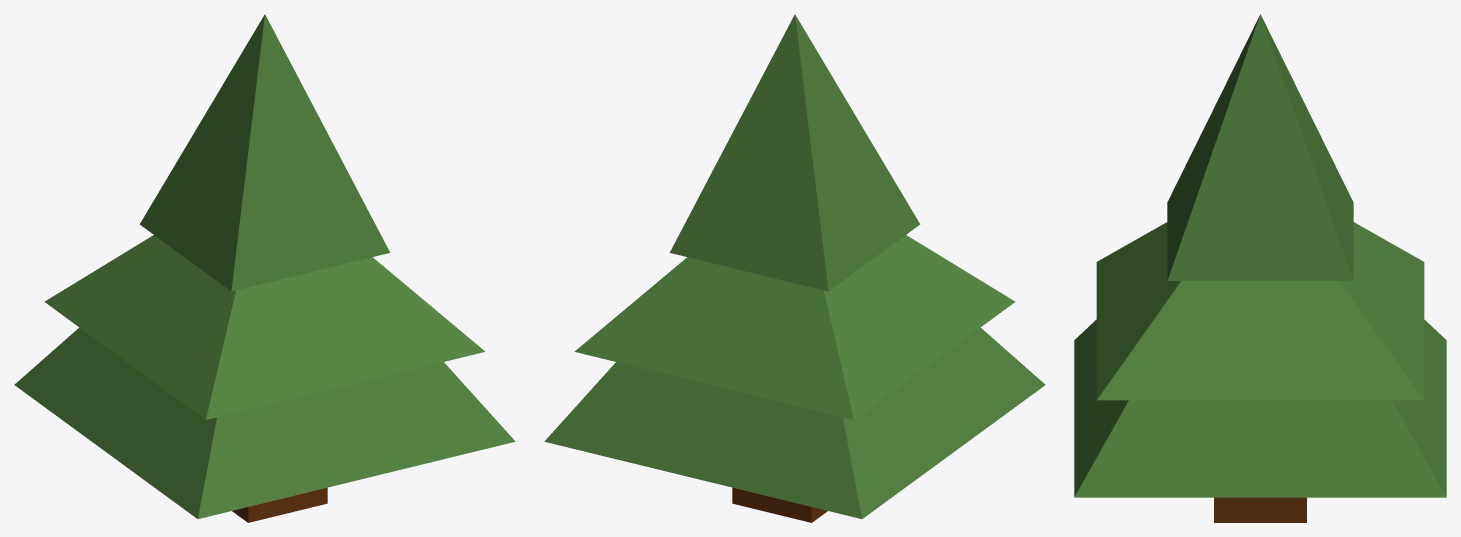
The model's file is Pine.fbx.
The picture shows the model from 3 angles, left to right: view 1: azimuth 30°, elevation 25°; view 2: azimuth 150°, elevation 25°; view 3: azimuth 270°, elevation 25°; orthographic projection.
Parts seen in each view (by area): view 1: Cube.001; view 2: Cube.001; view 3: Cube.001.
Boxes of the visible parts, bbox=[...] form: Cube.001: bbox=[14, 14, 515, 522]; Cube.001: bbox=[544, 14, 1045, 522]; Cube.001: bbox=[1074, 14, 1446, 522].
Size of the model in its own units: 400 by 580 by 400.
